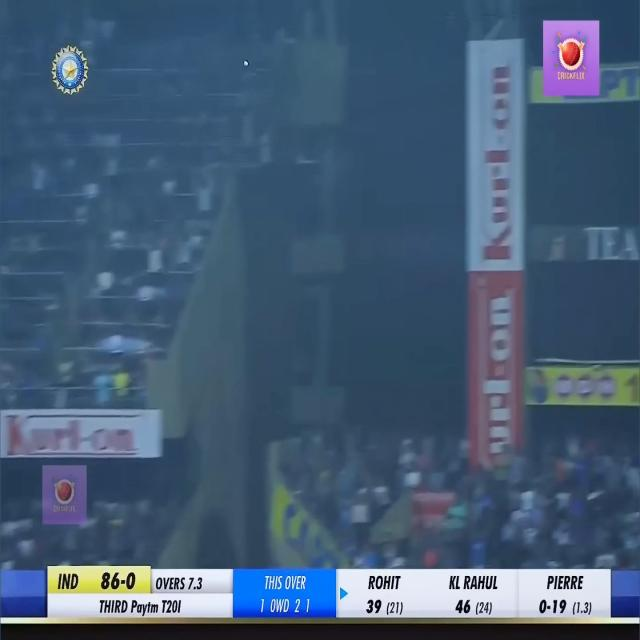fully_visible: (128, 593, 160, 620)
